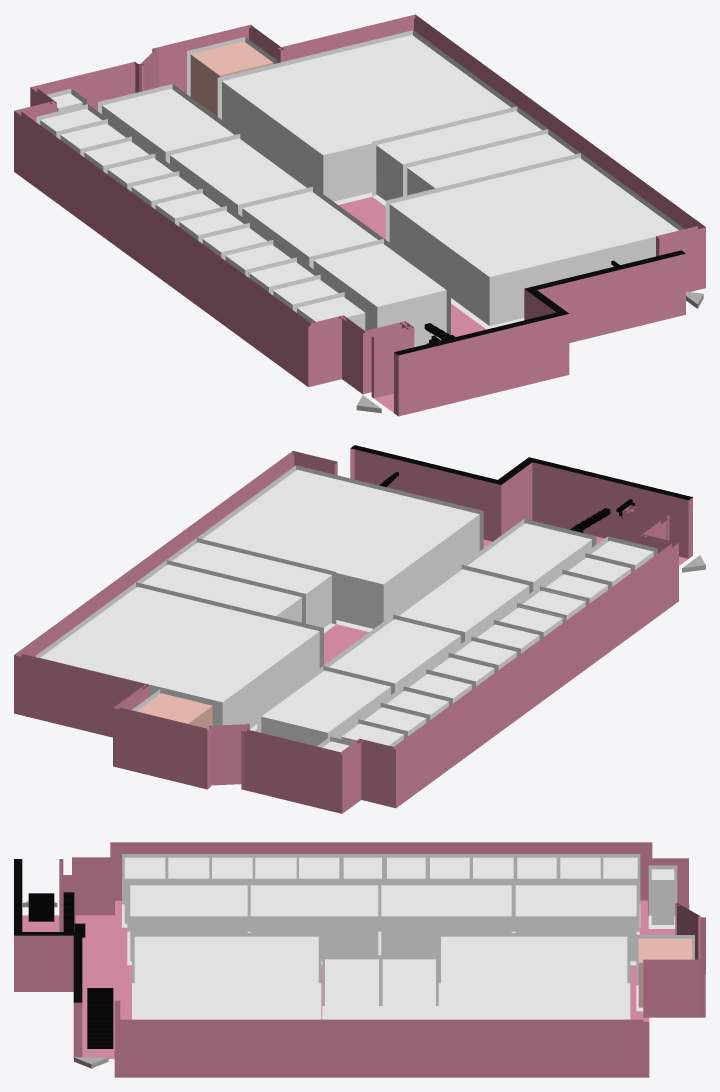
The picture shows the model from 3 angles, top to bottom: view 1: azimuth 30°, elevation 25°; view 2: azimuth 150°, elevation 25°; view 3: azimuth 270°, elevation 25°; orthographic projection. The views are drawn at different scales.
Parts seen in each view (by area): view 1: object, room_5_2_5, room_5_2_8, room_5_2_1, room_5_2_3, room_5_2_2, room_5_2_4, room_5_2_7, room_5_2_6, トイレ_5_2_1, object_line.005, object_line.002 (+19 smaller); view 2: object, room_5_2_5, room_5_2_8, room_5_2_4, room_5_2_3, room_5_2_2, room_5_2_6, room_5_2_1, room_5_2_7, object_line.005, object_line.002, トイレ_5_2_1 (+18 smaller); view 3: object, room_5_2_8, room_5_2_5, room_5_2_3, room_5_2_2, room_5_2_4, room_5_2_1, room_5_2_7, room_5_2_6, 階段_5_2_3, トイレ_5_2_1, object_line.002 (+26 smaller).
Part boxes in pixels (x1=…): object: x1=14, y1=14, x2=705, y2=416; room_5_2_5: x1=389, y1=157, x2=678, y2=325; room_5_2_8: x1=222, y1=35, x2=510, y2=201; room_5_2_1: x1=313, y1=243, x2=446, y2=346; room_5_2_3: x1=170, y1=138, x2=306, y2=213; room_5_2_2: x1=242, y1=191, x2=377, y2=265; room_5_2_4: x1=102, y1=88, x2=233, y2=160; room_5_2_7: x1=376, y1=111, x2=541, y2=200; room_5_2_6: x1=407, y1=133, x2=574, y2=195; トイレ_5_2_1: x1=190, y1=41, x2=273, y2=116; object_line.005: x1=385, y1=153, x2=683, y2=329; object_line.002: x1=217, y1=30, x2=516, y2=204; object: x1=14, y1=445, x2=692, y2=813; room_5_2_5: x1=202, y1=469, x2=479, y2=628; room_5_2_8: x1=40, y1=587, x2=319, y2=728; room_5_2_4: x1=261, y1=670, x2=390, y2=746; room_5_2_3: x1=329, y1=619, x2=460, y2=691; room_5_2_2: x1=399, y1=569, x2=529, y2=640; room_5_2_6: x1=172, y1=542, x2=331, y2=627; room_5_2_1: x1=467, y1=523, x2=591, y2=590; room_5_2_7: x1=142, y1=564, x2=301, y2=622; object_line.005: x1=197, y1=465, x2=483, y2=631; object_line.002: x1=36, y1=582, x2=323, y2=731; トイレ_5_2_1: x1=137, y1=693, x2=212, y2=730; object: x1=14, y1=842, x2=705, y2=1077; room_5_2_8: x1=441, y1=936, x2=627, y2=1019; room_5_2_5: x1=134, y1=936, x2=318, y2=1019; room_5_2_3: x1=381, y1=885, x2=511, y2=955; room_5_2_2: x1=250, y1=885, x2=378, y2=961; room_5_2_4: x1=515, y1=885, x2=636, y2=961; room_5_2_1: x1=130, y1=885, x2=247, y2=961; room_5_2_7: x1=382, y1=959, x2=435, y2=1019; room_5_2_6: x1=325, y1=959, x2=378, y2=1019; 階段_5_2_3: x1=87, y1=988, x2=113, y2=1048; トイレ_5_2_1: x1=638, y1=938, x2=692, y2=1007; object_line.002: x1=438, y1=933, x2=630, y2=1019.
Bounding box in the file's own units: 1.56 × 0.234 × 2.54.
